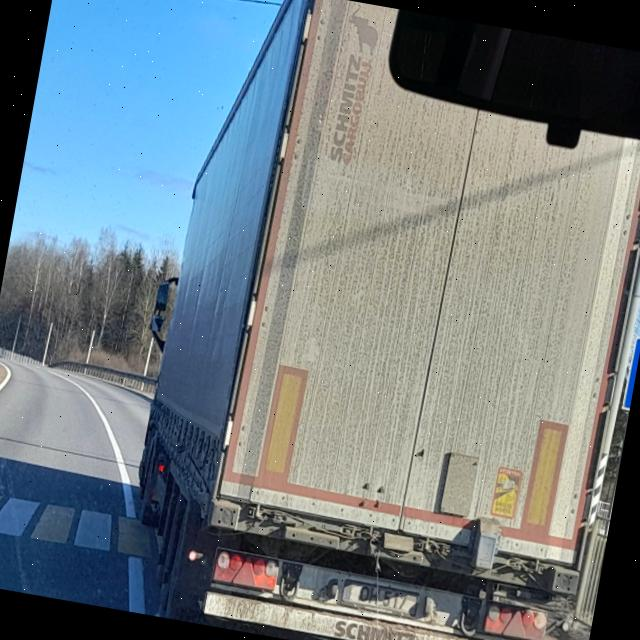License-plate: (340, 576, 420, 613)
